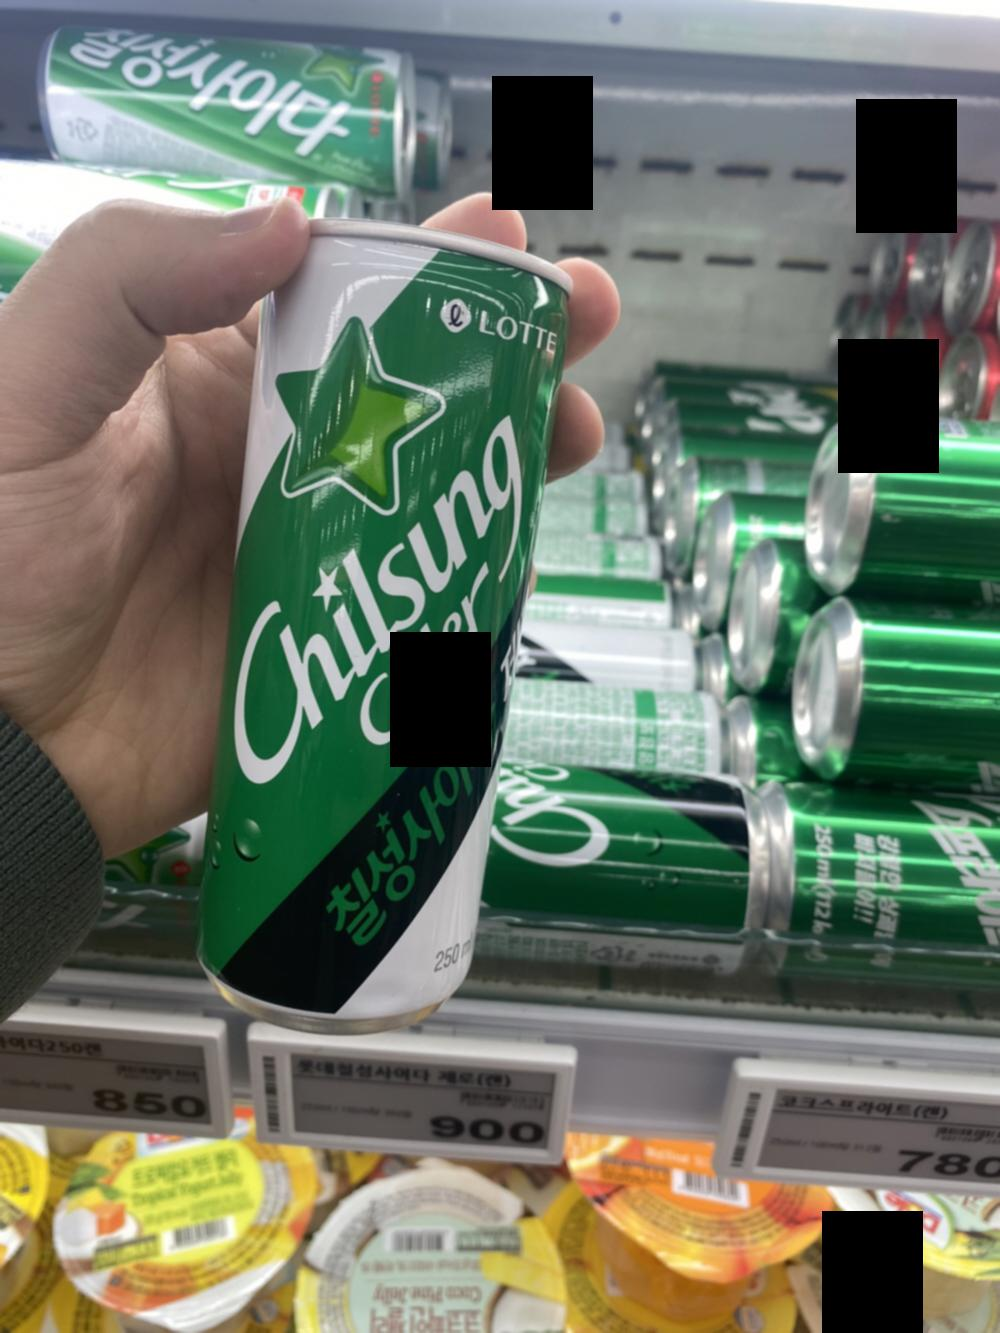chilsungcider_zero: (228, 227, 547, 1019)
